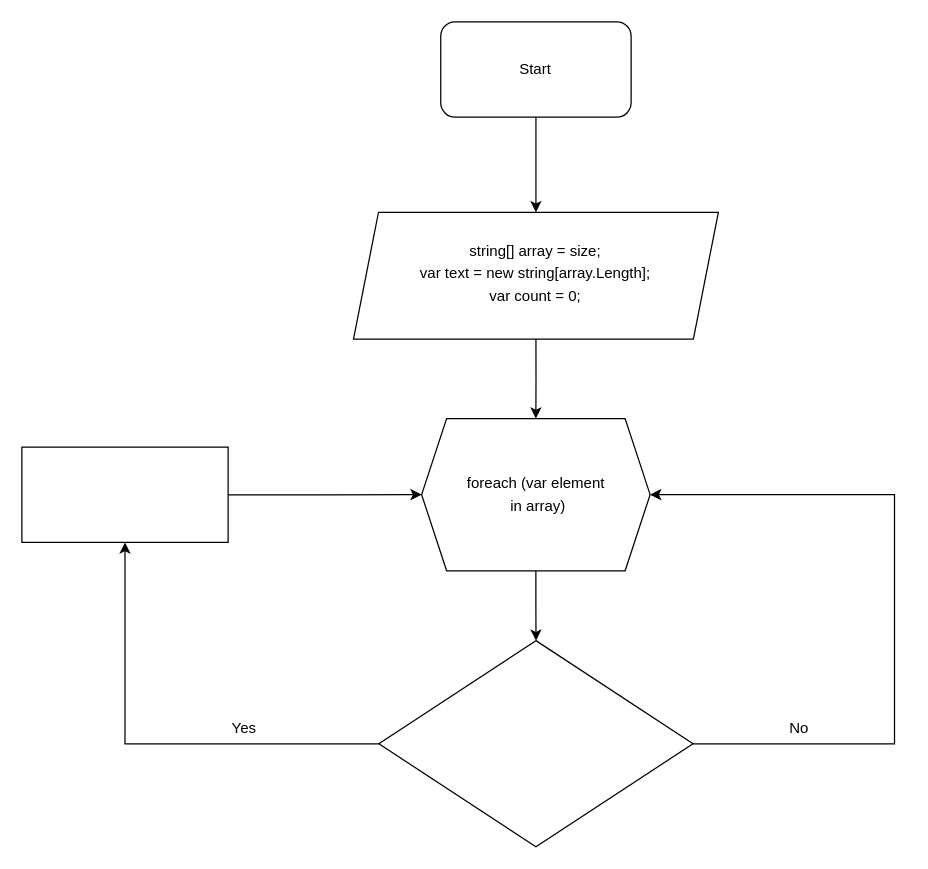
Some shapes in this 928 by 869 pixel diagram are drawn without their labels. Each missing label, with the box of its shape:
if (element.Length <= 3): (378, 639, 693, 847)
text[count] = element; count++;: (21, 446, 228, 542)
